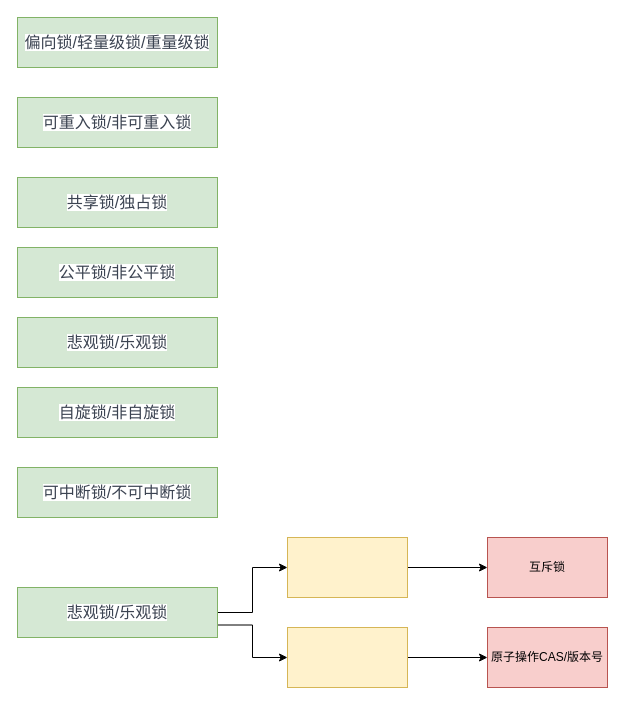
The diagram is 625 pixels wide and 705 high, and some of its shapes have lost their labels. The shapes that lost their labels are listed below. From the top down, each one's centre as x and y in pixels, then its label:
the point at 347,567: 悲观锁
the point at 347,657: 乐观锁
